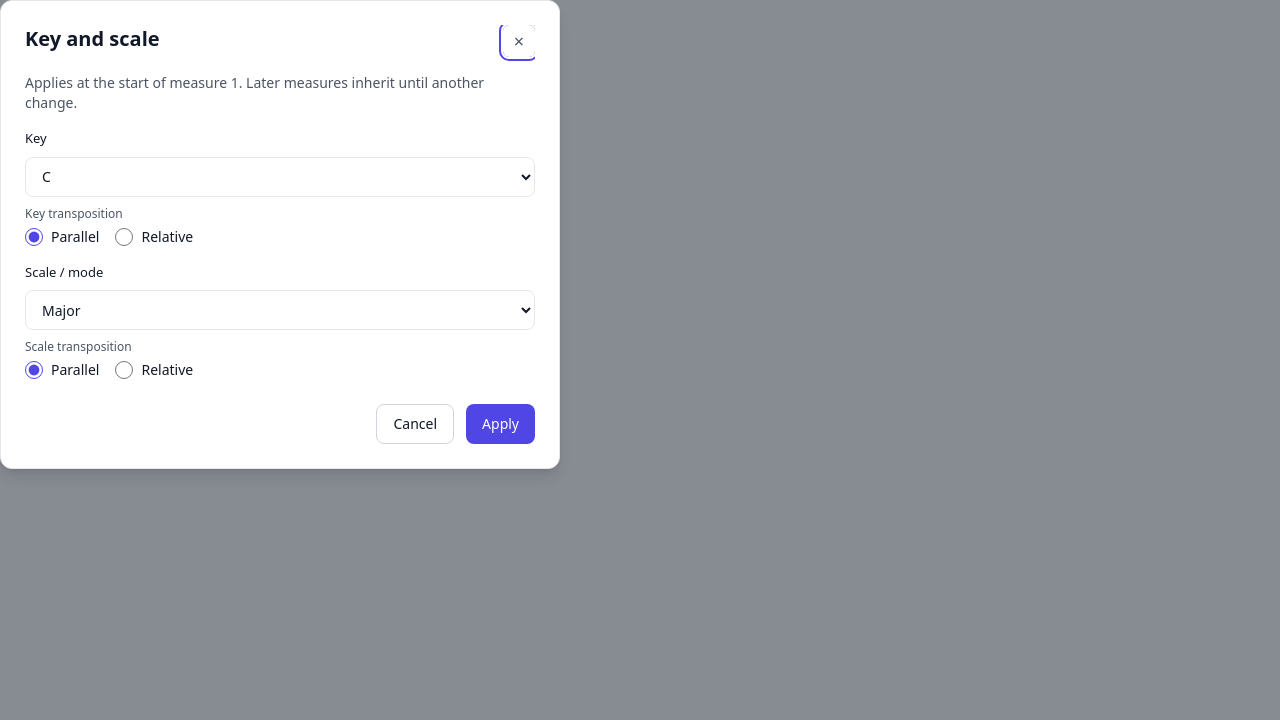
Test: KeyScaleChangeDialog (TASK-5.5) › relative key + tonic A from C major yields A minor before Apply
The width and height of the screenshot is (1280, 720).
Click the radio button labelled "Relative" below "Key transposition".
click(124, 236)  # box [115,228,133,246]
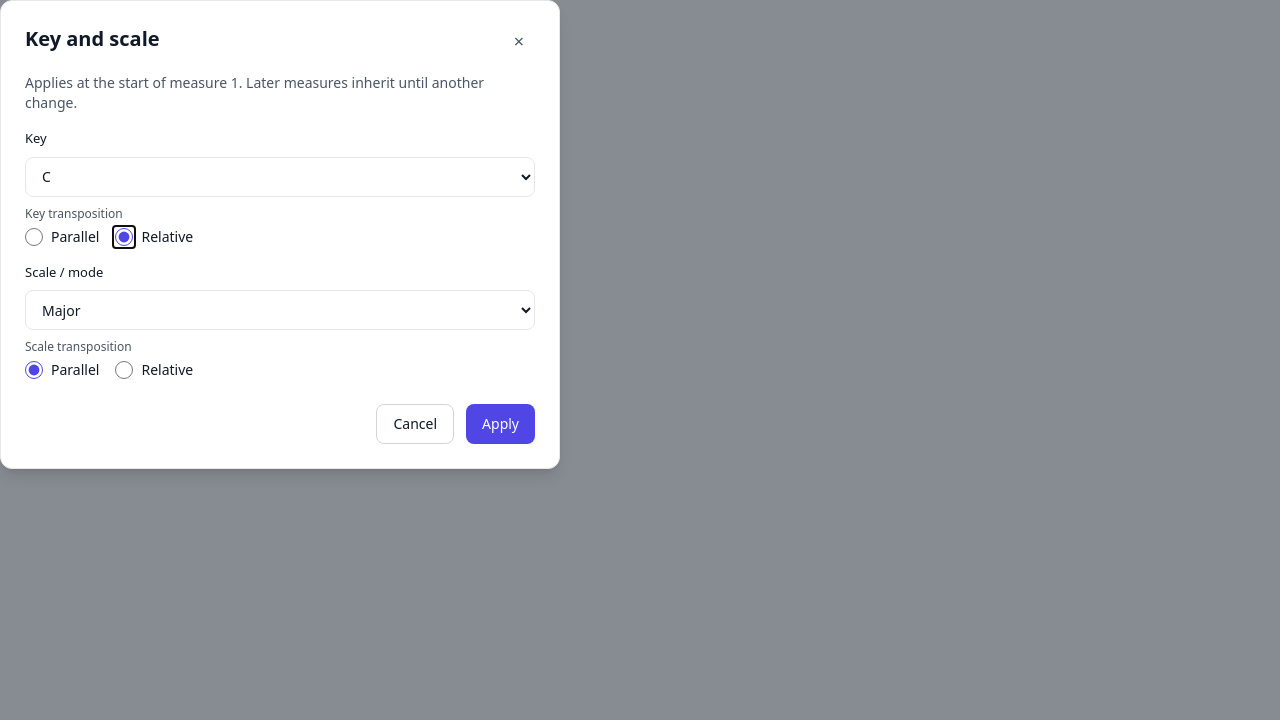
Select "A" in the dropdown labelled "Key" at (280, 176), box [25,156,535,196]
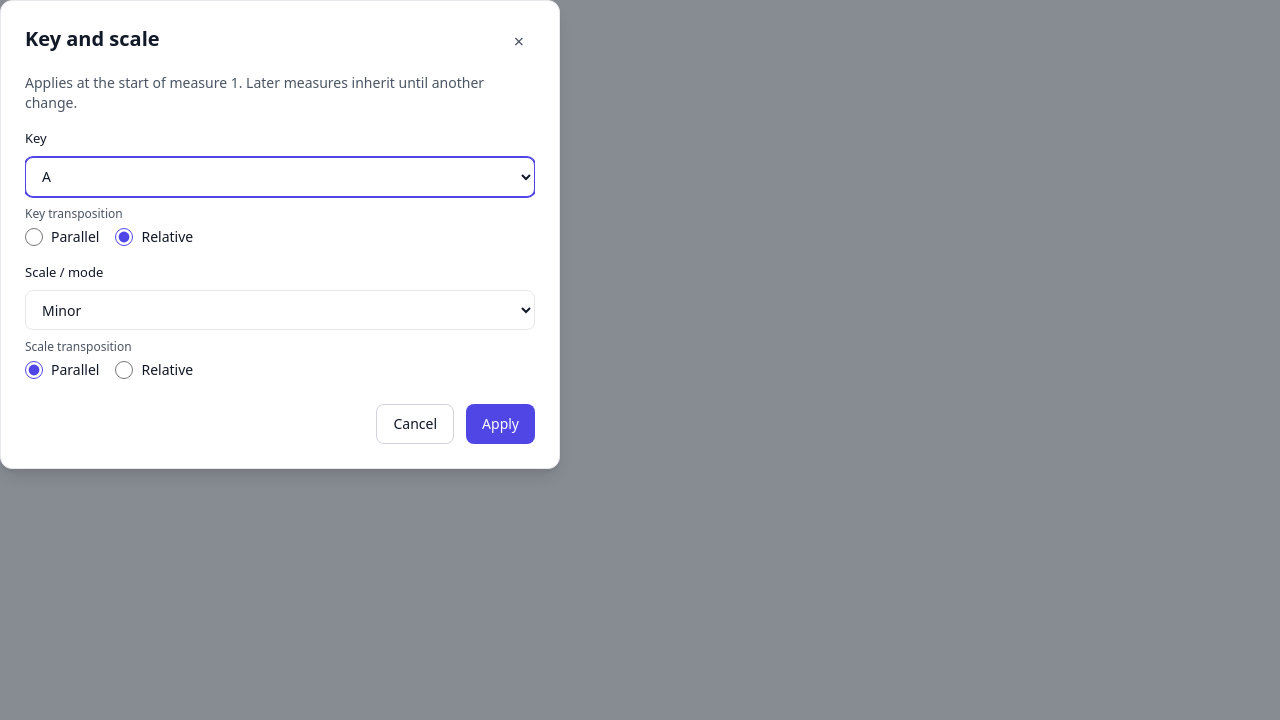
Result: the dropdown labelled "Scale / mode" shows "Minor" at [25,290,535,330]
